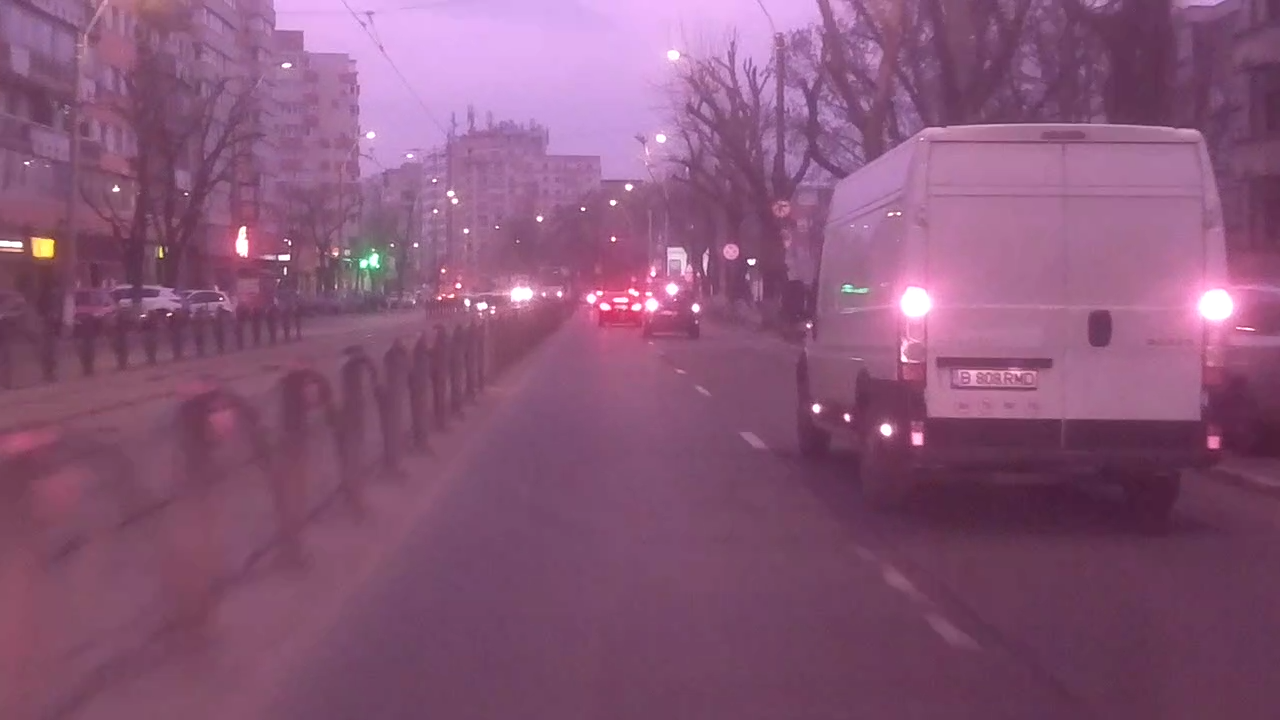license-plate: (946, 366, 1041, 392)
